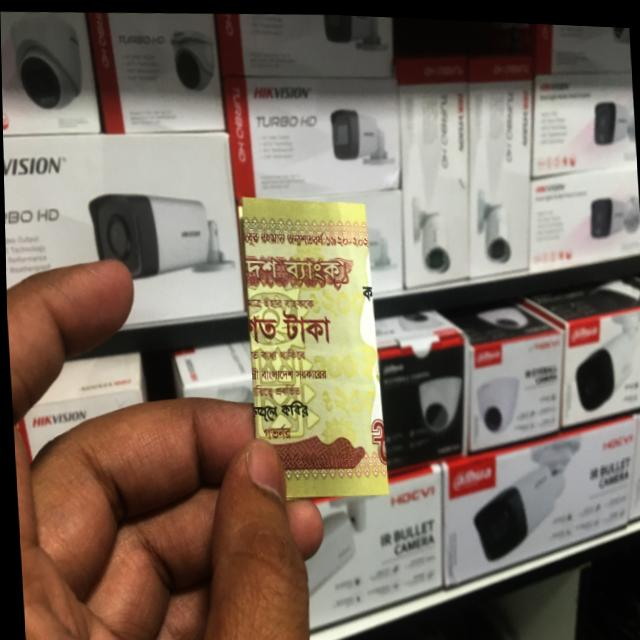Taka: (239, 191, 390, 497)
